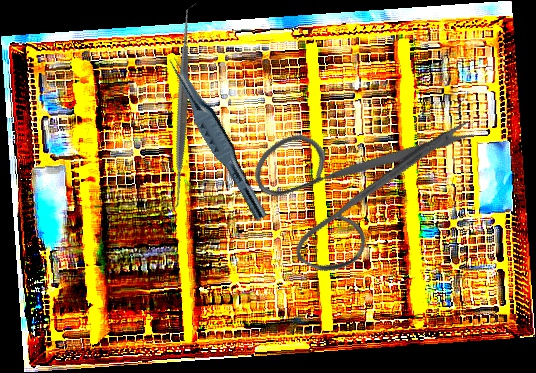Iris Scissors: (227, 45, 481, 307)
Spatula Surgical: (76, 2, 288, 215)
Tissue Forceps: (158, 54, 277, 222)
